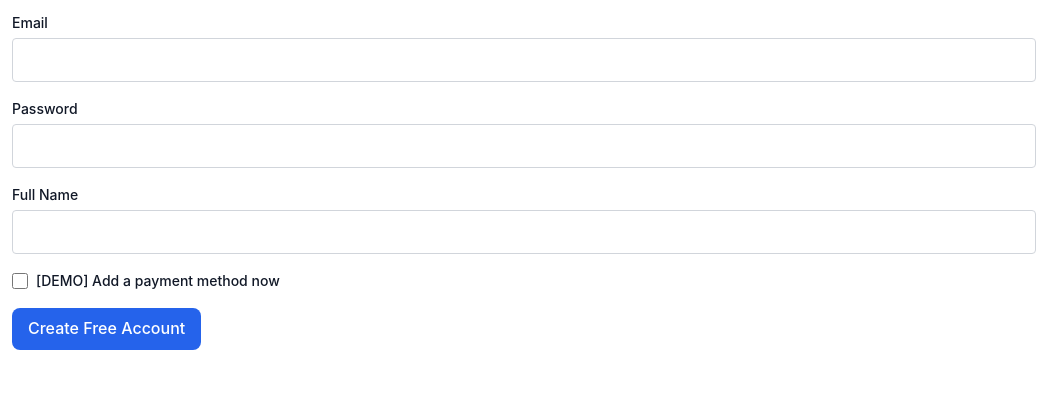
Test: <RegisterForm /> › when the server rejects with a 422 validation_failed › should show the per-field server error message
Type "traveler@example.com" into the field labelled "Email" at (524, 60), box [12,38,1036,82]
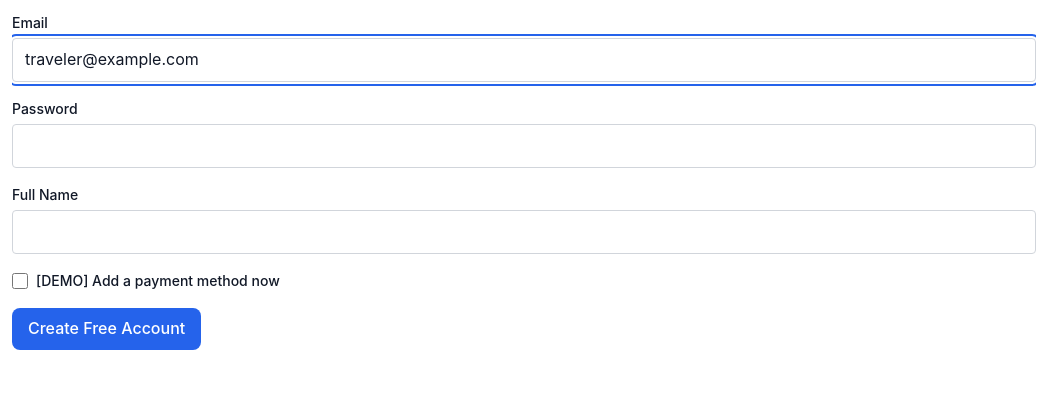
Type "CorrectHorse1!" into the password field labelled "Password" at (524, 146), box [12,124,1036,168]
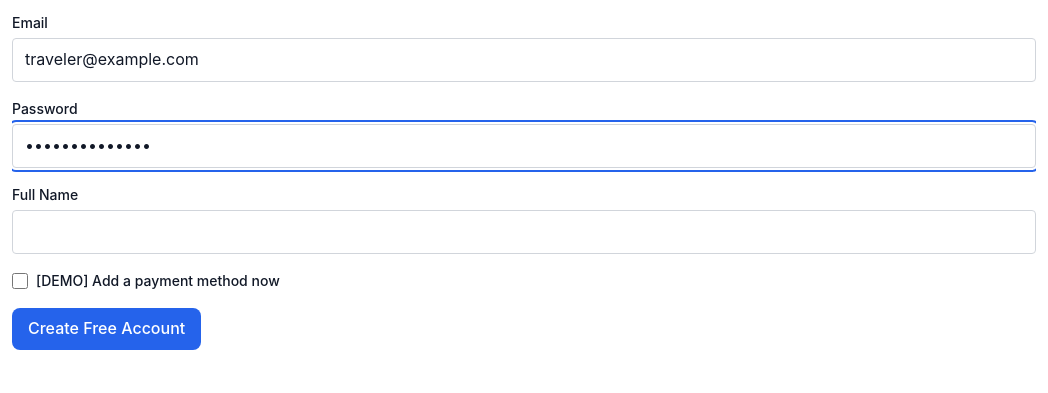
Type "Ada Traveler" into the field labelled "Full Name" at (524, 232), box [12,210,1036,254]
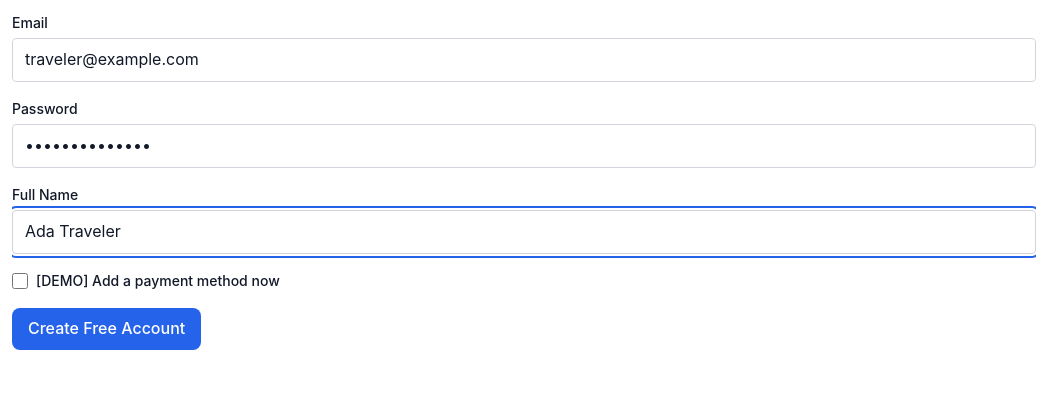
Click the button "Create Free Account" at (107, 329), box [12,308,201,350]
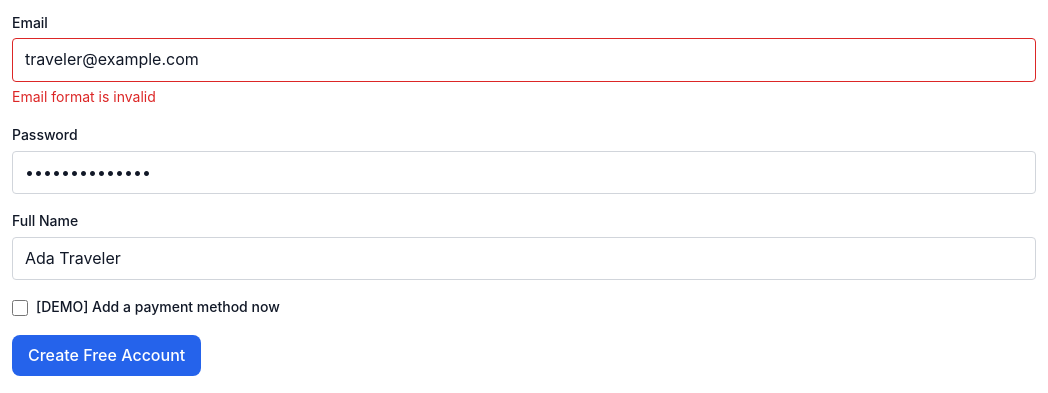
Expected: the text "Email format is invalid" is shown, [12,88,156,105]
